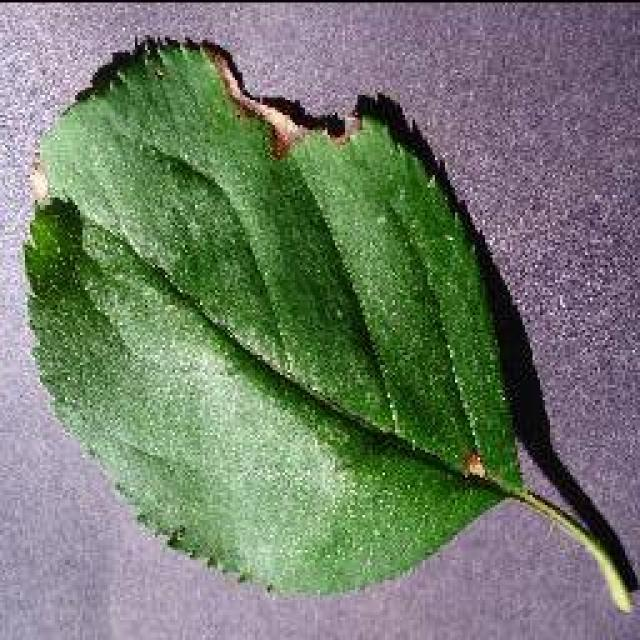apple healthy: (20, 32, 638, 612)
